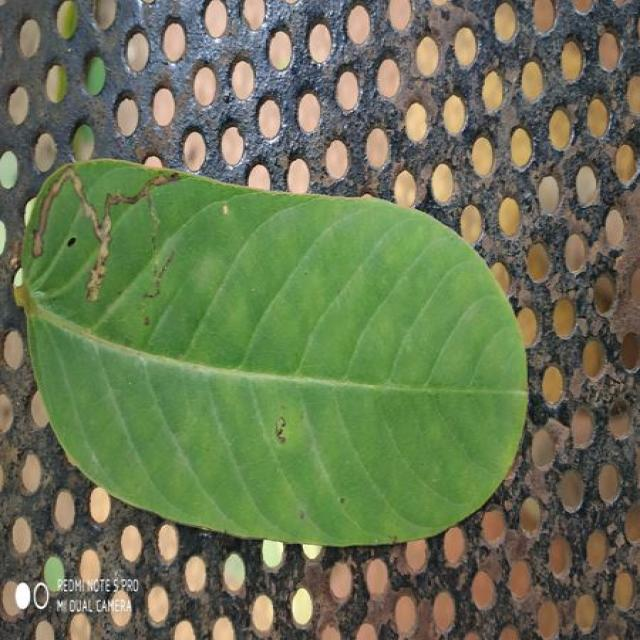chakte: (22, 160, 527, 546)
